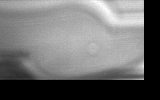cell: (83, 38, 103, 57), (81, 36, 101, 55)
